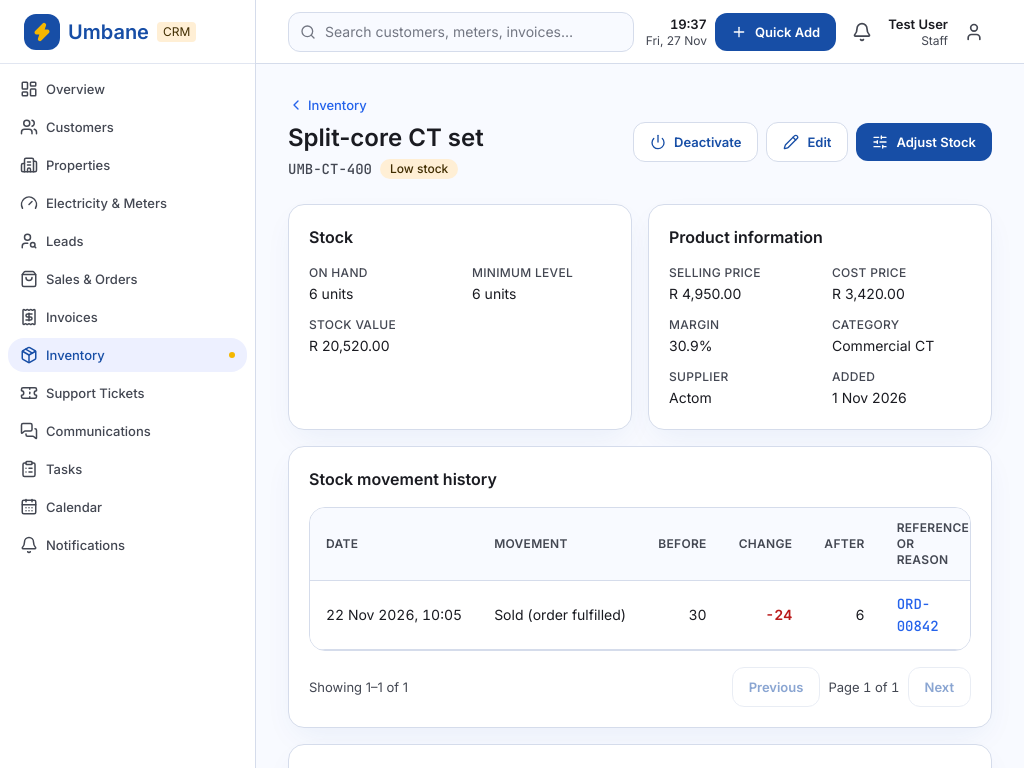
stock movements › needs a reason to adjust, and refuses going below zero
The width and height of the screenshot is (1024, 768).
Click the button "Adjust Stock".
click(924, 142)  # box [856,123,992,161]
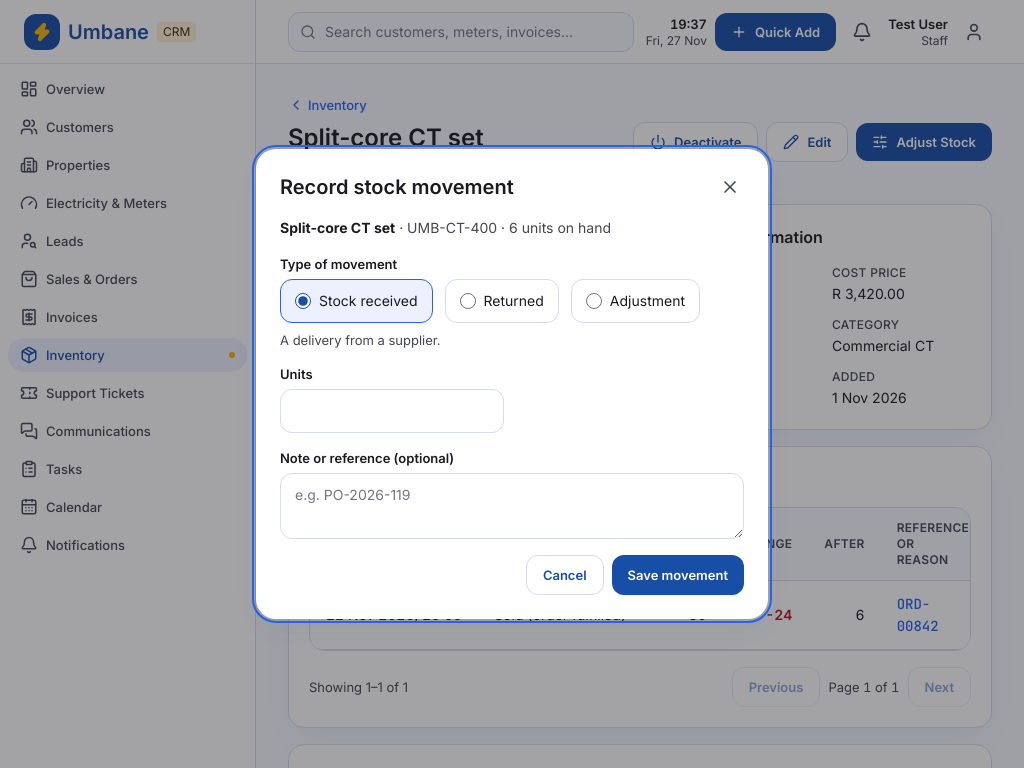
Click the radio button labelled "Adjustment".
click(594, 301)  # box [586,293,602,309]
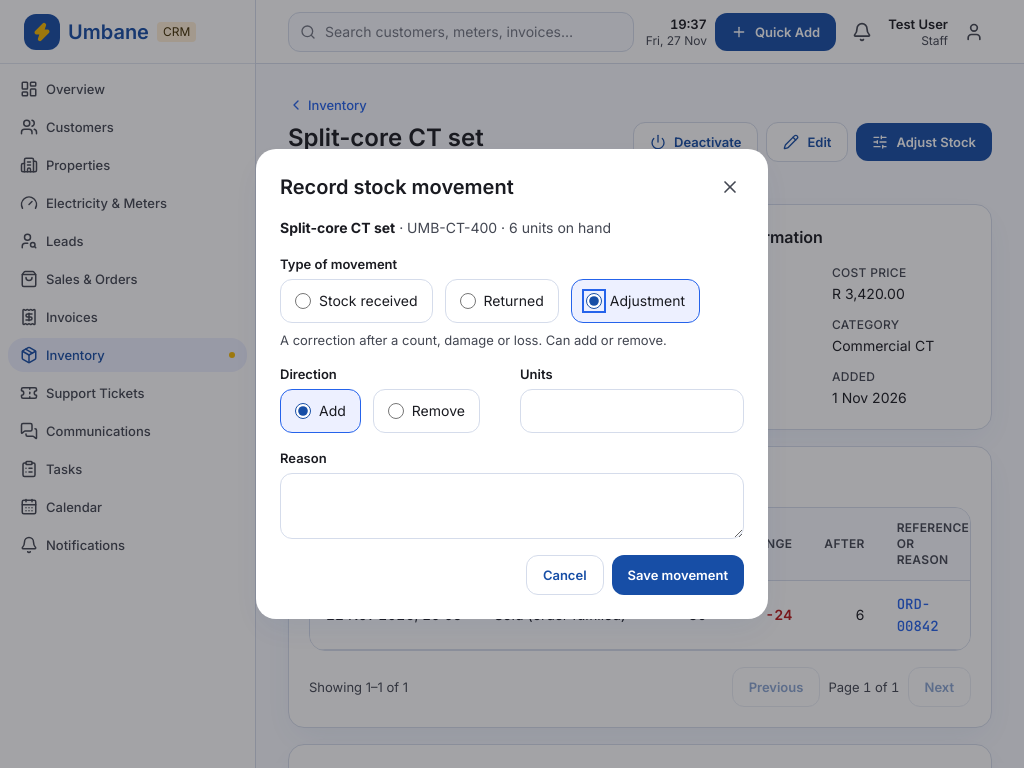
Click the radio button labelled "Remove".
click(396, 411)  # box [388,403,404,419]
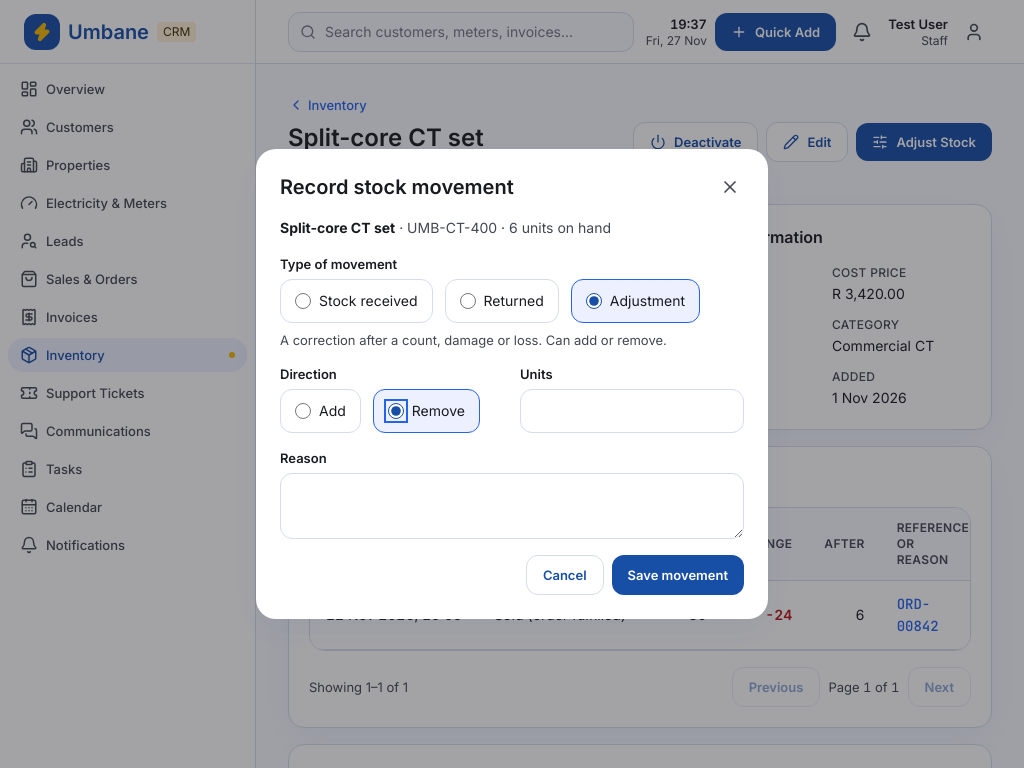
Type "7" into the field labelled "Units".
click(632, 411); type("7")  # box [520,389,744,433]
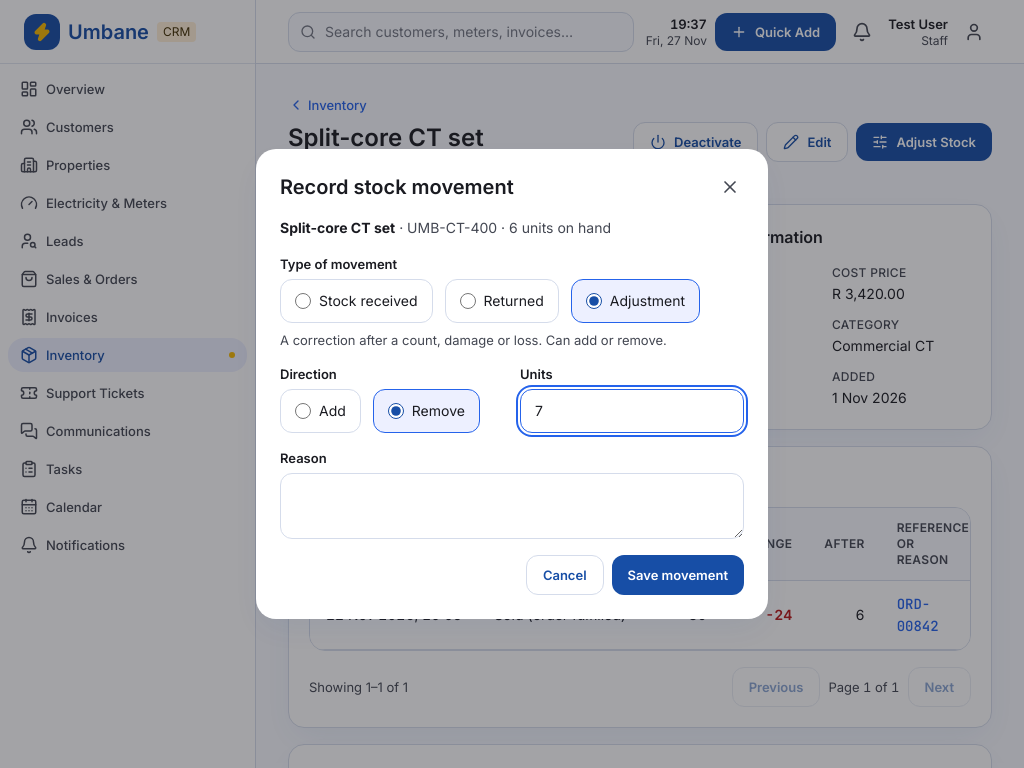
Click the button "Save movement".
click(678, 575)  # box [612,555,744,595]
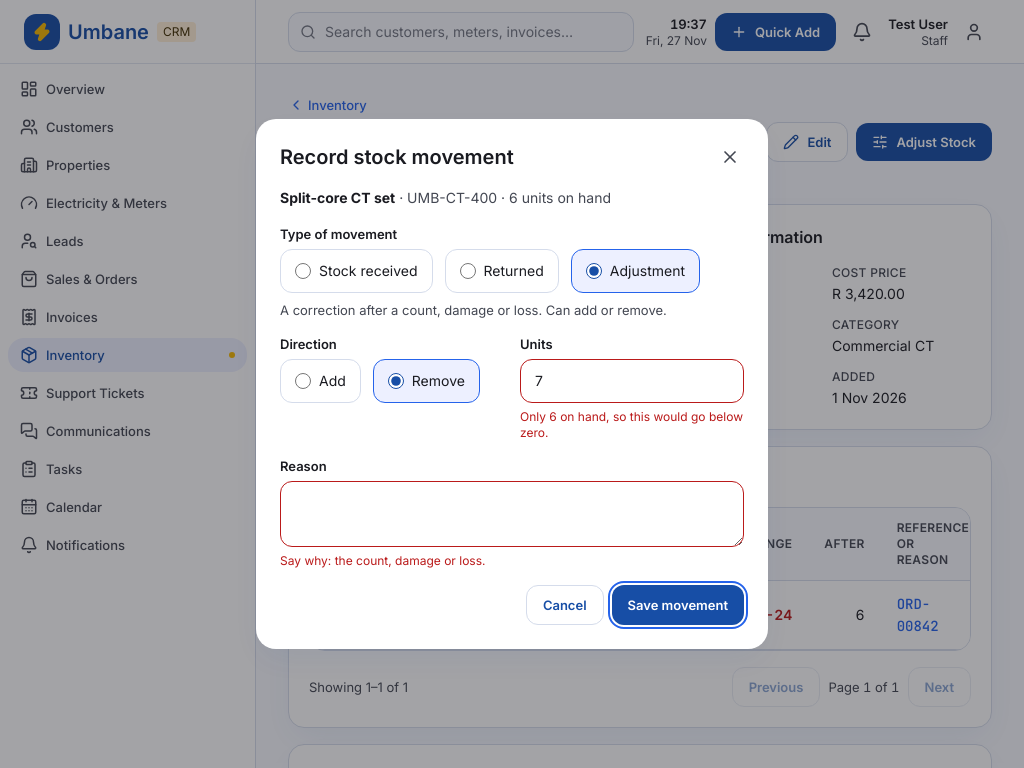
Check: the text "Only 6 on hand, so this would go below zero." is shown, box [520,409,744,441]
Check: the text "Say why: the count, damage or loss." is shown, box [280,553,486,568]
